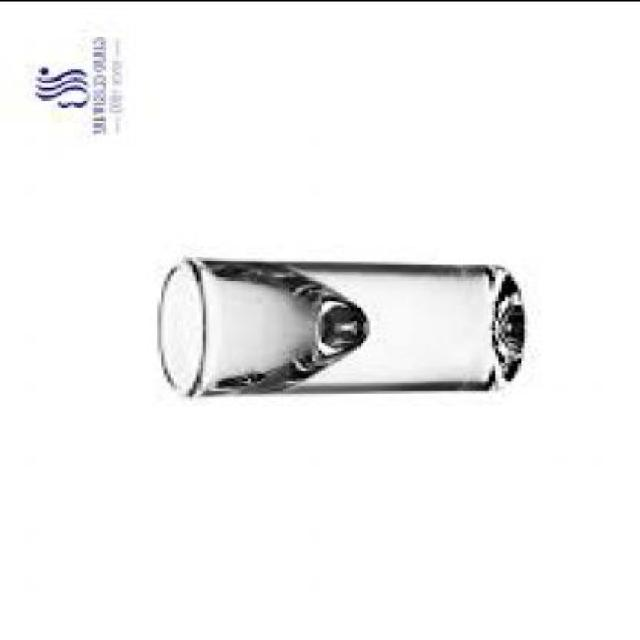glass: (156, 255, 522, 388)
